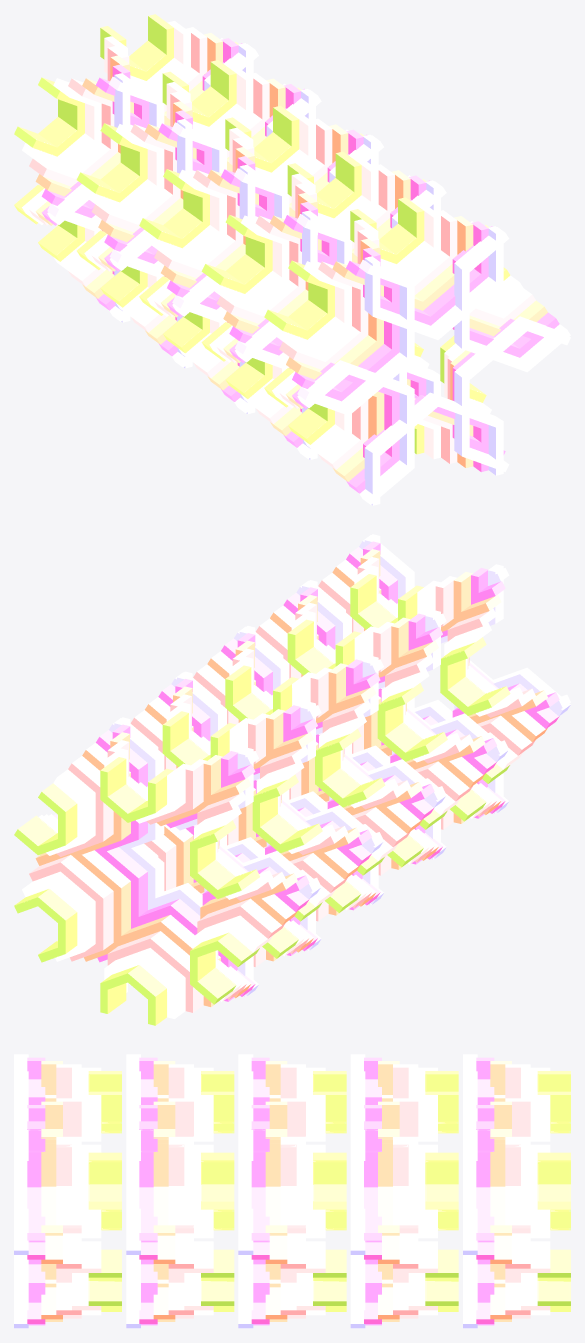
File: hx_a_hex_102B.glb
The picture shows the model from 3 angles, top to bottom: view 1: azimuth 30°, elevation 25°; view 2: azimuth 150°, elevation 25°; view 3: azimuth 270°, elevation 25°; orthographic projection. The views are drawn at different scales.
Visible parts, largest first — view 1: nue_hexhalf_stf 2 (×5), nue_hexhalf_stf 3 (×5), nue_hexhalf_stf 1 (×5), nue_hexhalf_stf 0 (×2), nue_hexhalf_stf 4, nue_hexhalf_stf 5; view 2: nue_hexhalf_stf 2 (×5), nue_hexhalf_stf 3 (×5), nue_hexhalf_stf 1 (×5), nue_hexhalf_stf 4 (×5), nue_hexhalf_stf 5 (×5), nue_hexhalf_stf 0 (×5); view 3: nue_hexhalf_stf 4 (×5), nue_hexhalf_stf 5 (×5), nue_hexhalf_stf 3 (×5), nue_hexhalf_stf 0 (×5), nue_hexhalf_stf 2 (×5), nue_hexhalf_stf 1 (×5).
Boxes of the visible parts, x1,y1,x2,y2 form: nue_hexhalf_stf 2 (×5): (14, 76, 414, 415); nue_hexhalf_stf 3 (×5): (100, 14, 503, 339); nue_hexhalf_stf 1 (×5): (14, 181, 414, 504); nue_hexhalf_stf 0 (×2): (300, 363, 503, 505); nue_hexhalf_stf 4: (452, 221, 570, 372); nue_hexhalf_stf 5: (440, 316, 570, 471); nue_hexhalf_stf 2 (×5): (190, 568, 570, 900); nue_hexhalf_stf 3 (×5): (100, 534, 503, 830); nue_hexhalf_stf 1 (×5): (190, 667, 570, 1004); nue_hexhalf_stf 4 (×5): (14, 535, 414, 857); nue_hexhalf_stf 5 (×5): (14, 687, 414, 962); nue_hexhalf_stf 0 (×5): (100, 700, 503, 1025); nue_hexhalf_stf 4 (×5): (14, 1113, 570, 1248); nue_hexhalf_stf 5 (×5): (14, 1208, 570, 1328); nue_hexhalf_stf 3 (×5): (14, 1054, 570, 1162); nue_hexhalf_stf 0 (×5): (14, 1255, 570, 1328); nue_hexhalf_stf 2 (×5): (14, 1064, 570, 1141); nue_hexhalf_stf 1 (×5): (63, 1212, 570, 1238).
Size of the model in its own units: 49.02 by 42.66 by 99.26.
